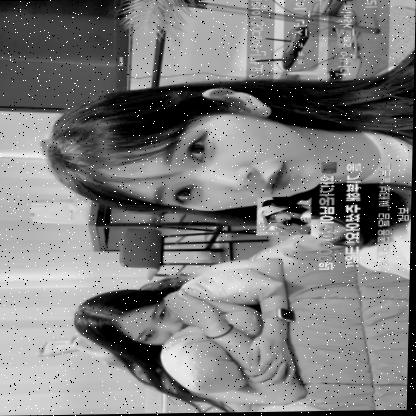donation: (257, 161, 413, 272)
streamer: (46, 37, 415, 289), (35, 258, 313, 415)
